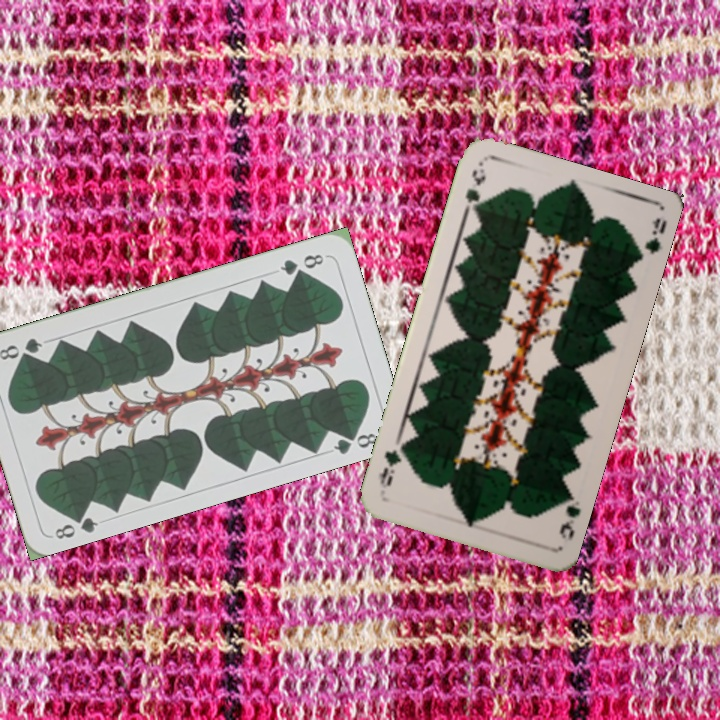G8: (50, 507, 101, 542), (276, 249, 327, 278)
G9: (555, 489, 583, 543), (461, 164, 489, 216)
